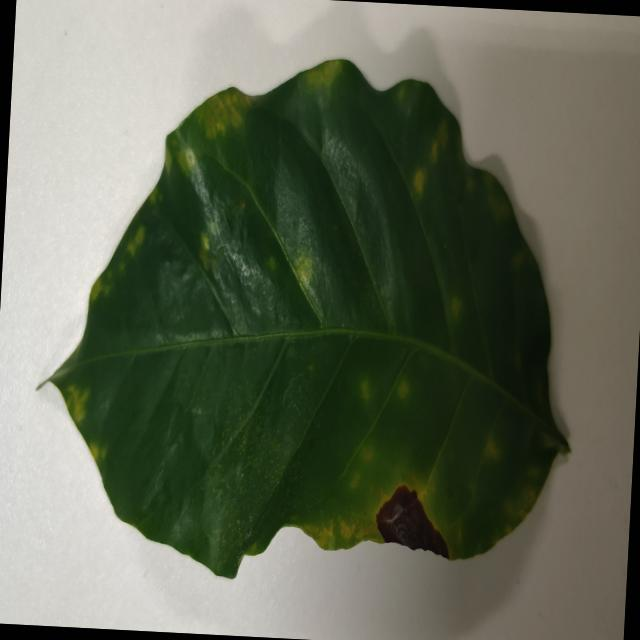KaratDaunKopi: (377, 486, 449, 558), (198, 89, 252, 139), (484, 174, 513, 225), (306, 60, 344, 87), (67, 385, 90, 423), (67, 385, 90, 423), (127, 226, 145, 257), (296, 256, 311, 287), (485, 435, 501, 461), (200, 234, 211, 269), (90, 278, 105, 302), (413, 169, 426, 194), (90, 443, 106, 462), (438, 120, 448, 150), (452, 296, 462, 319), (430, 139, 439, 164), (398, 381, 410, 399), (513, 251, 523, 270), (361, 449, 373, 463), (350, 473, 360, 489), (361, 380, 369, 399), (466, 177, 474, 193), (515, 351, 521, 370), (268, 257, 276, 270)
